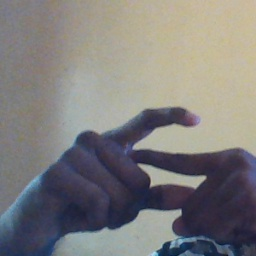E: (111, 103, 218, 219)
